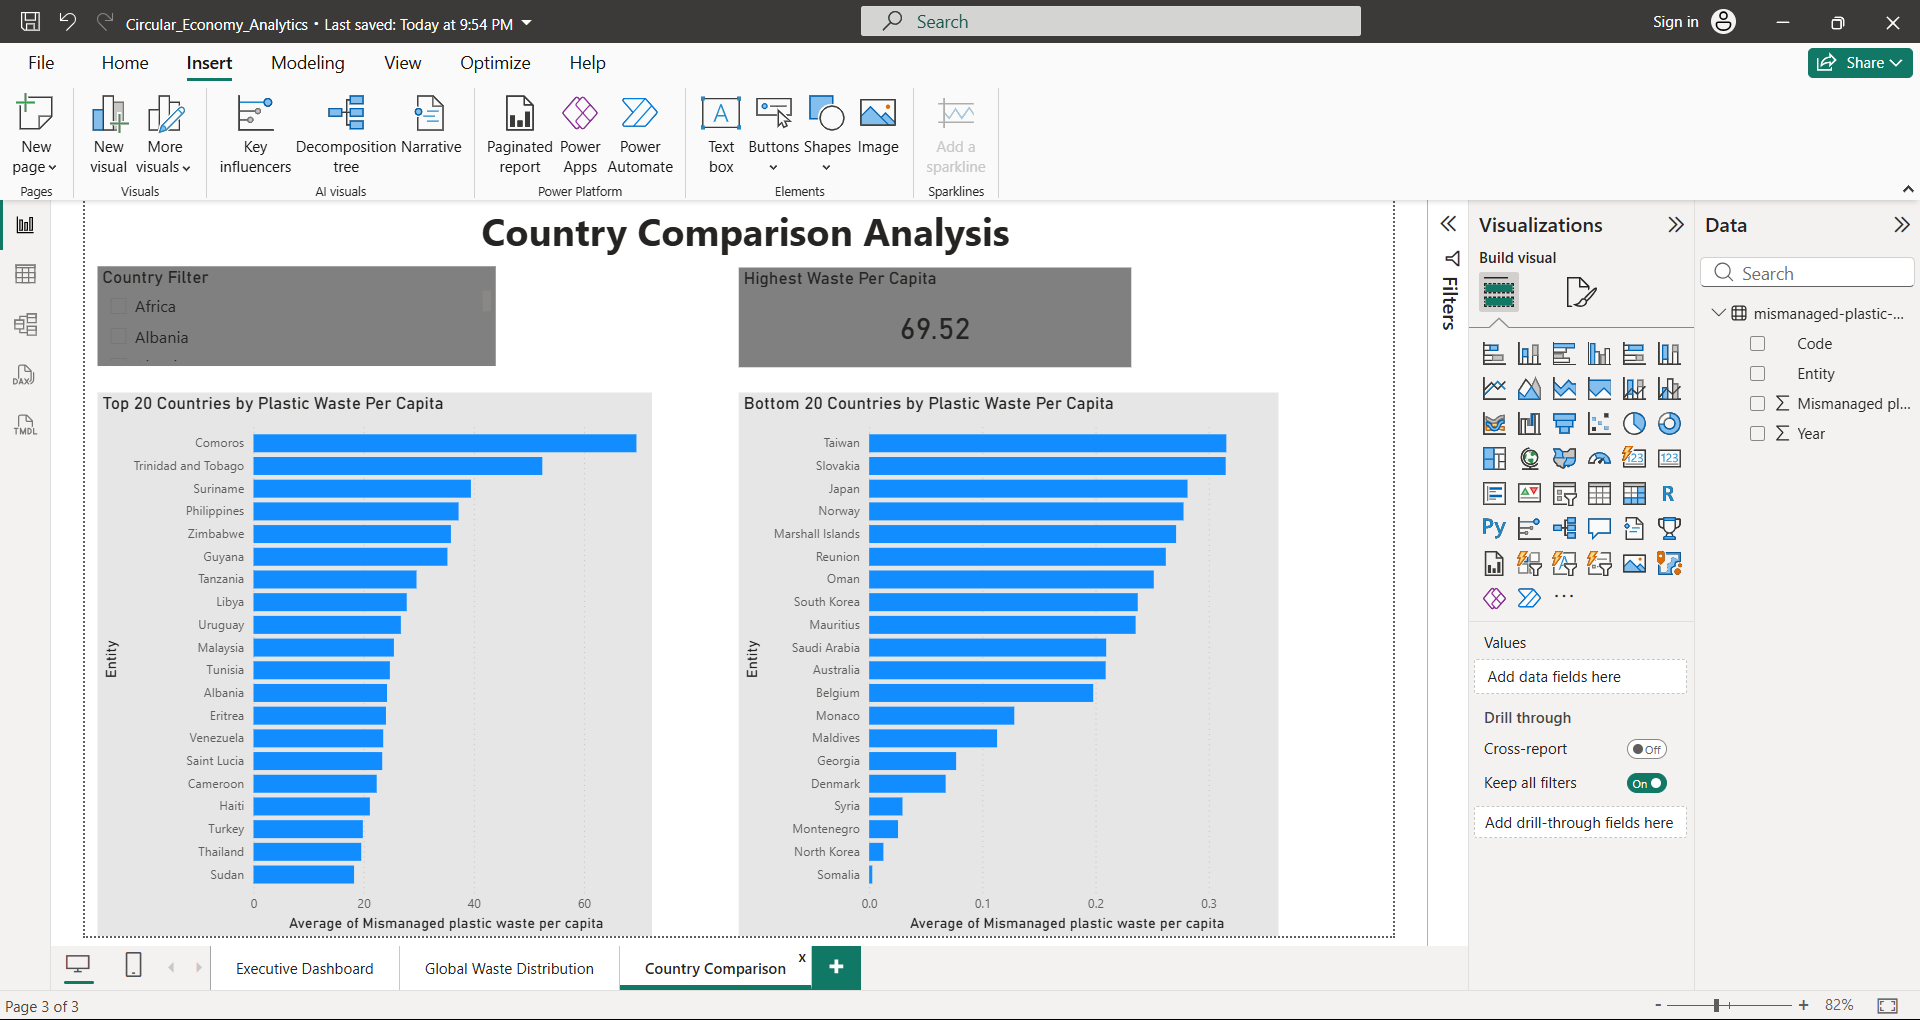

The dashboard page shown, as its layout file describes it:
{"tool":"powerbi","page":{"name":"Country Comparison","canvas":[1280,720],"ordinal":2},"visuals":[{"type":"clusteredBarChart","title":"Top 20 Countries by Plastic Waste Per Capita","fields":{"Category":["mismanaged-plastic-waste-per-capita.Entity"],"Y":["Avg(mismanaged-plastic-waste-per-capita.Mismanaged plastic waste per capita)"]},"box":[12.3,188,542,532.4],"z":0},{"type":"clusteredBarChart","title":"Bottom 20 Countries by Plastic Waste Per Capita","fields":{"Category":["mismanaged-plastic-waste-per-capita.Entity"],"Y":["Avg(mismanaged-plastic-waste-per-capita.Mismanaged plastic waste per capita)"]},"box":[639.5,188,528.3,532.4],"z":1},{"type":"textbox","box":[12.3,0,1267.9,64.5],"z":2},{"type":"slicer","title":"Country Filter","fields":{"Values":["mismanaged-plastic-waste-per-capita.Entity"]},"box":[12.3,64.5,389.7,97.4],"z":3},{"type":"card","title":"Highest Waste Per Capita","fields":{"Values":["Max(mismanaged-plastic-waste-per-capita.Mismanaged plastic waste per capita)"]},"box":[639.5,65.9,384.2,97.4],"z":4}]}

Visuals, with their boxes on the page's 1280x720 design canvas (x1, y1, x2, y2). These are canvas units, not pixel positions in the 1920x1020 screenshot, which may show the page scaled, cropped or inside an application window:
"Top 20 Countries by Plastic Waste Per Capita" clusteredBarChart: {"x1": 12, "y1": 188, "x2": 554, "y2": 720}
"Bottom 20 Countries by Plastic Waste Per Capita" clusteredBarChart: {"x1": 640, "y1": 188, "x2": 1168, "y2": 720}
textbox: {"x1": 12, "y1": 0, "x2": 1280, "y2": 64}
"Country Filter" slicer: {"x1": 12, "y1": 64, "x2": 402, "y2": 162}
"Highest Waste Per Capita" card: {"x1": 640, "y1": 66, "x2": 1024, "y2": 163}
